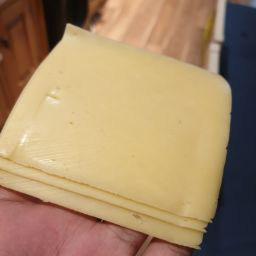Cheddar cheese: (30, 15, 235, 209), (2, 86, 224, 248)
